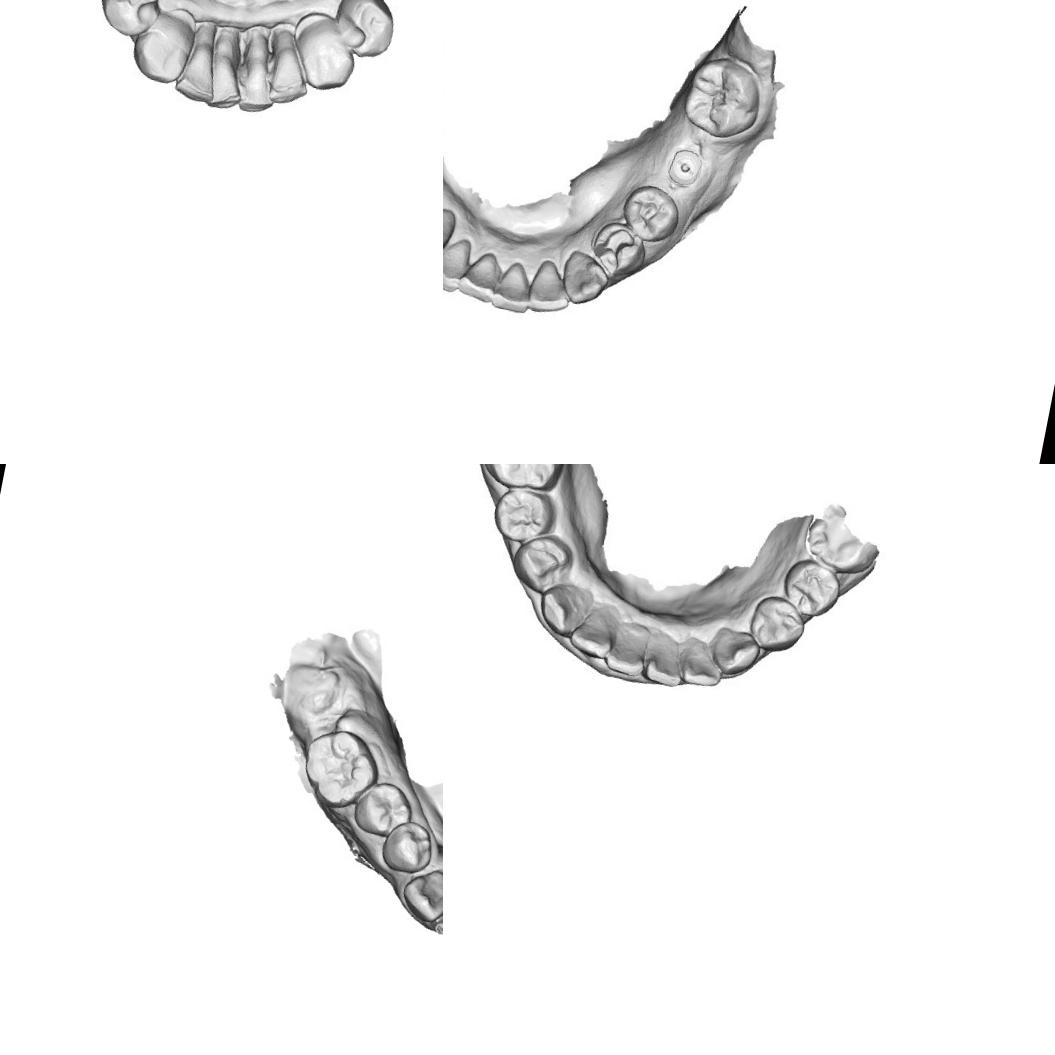canine: (125, 8, 202, 93), (287, 12, 362, 95), (532, 578, 596, 641), (707, 624, 763, 680), (397, 863, 443, 925), (558, 252, 606, 302), (443, 198, 456, 258)
implant_minus: (663, 140, 707, 195)
incisor: (260, 28, 318, 110), (203, 28, 256, 115), (231, 36, 286, 119), (170, 29, 225, 106), (524, 255, 576, 316), (565, 603, 618, 661), (602, 617, 652, 678), (640, 630, 689, 689), (490, 255, 536, 314), (678, 636, 727, 690), (462, 250, 502, 299), (443, 237, 471, 294), (431, 889, 443, 941)
molar: (672, 47, 770, 148), (296, 722, 386, 815), (475, 464, 573, 496)
premolar: (506, 527, 577, 598), (329, 0, 403, 66), (777, 554, 845, 621), (488, 483, 558, 548), (350, 776, 416, 840), (744, 591, 808, 657), (378, 816, 436, 877), (622, 184, 678, 246), (92, 0, 169, 42), (593, 220, 647, 274)
